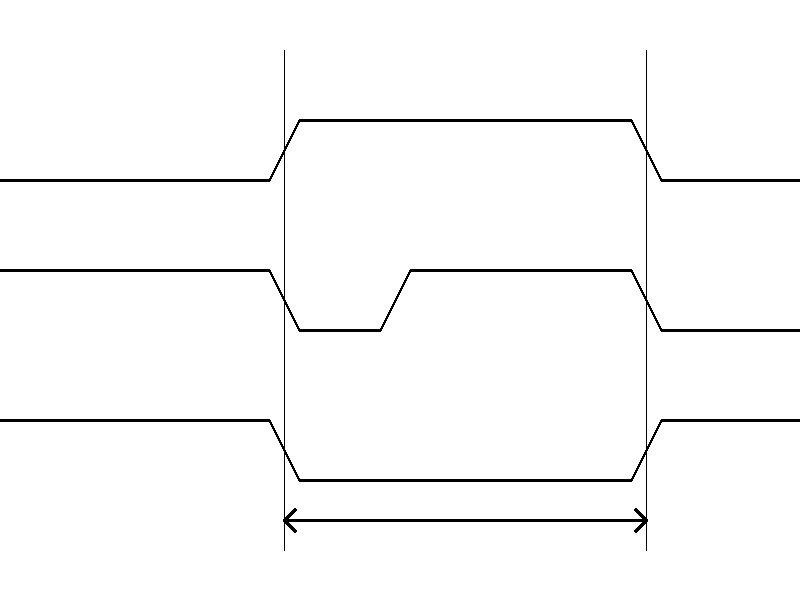double_arrow: (284, 505, 646, 535)
